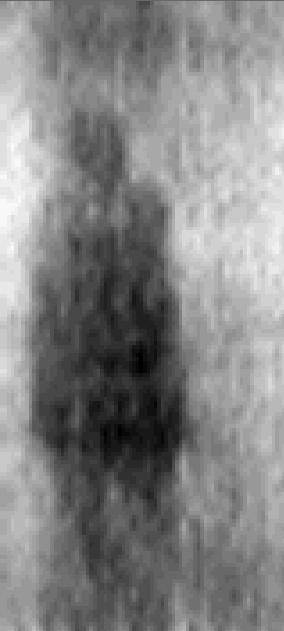person: (19, 92, 198, 631)
